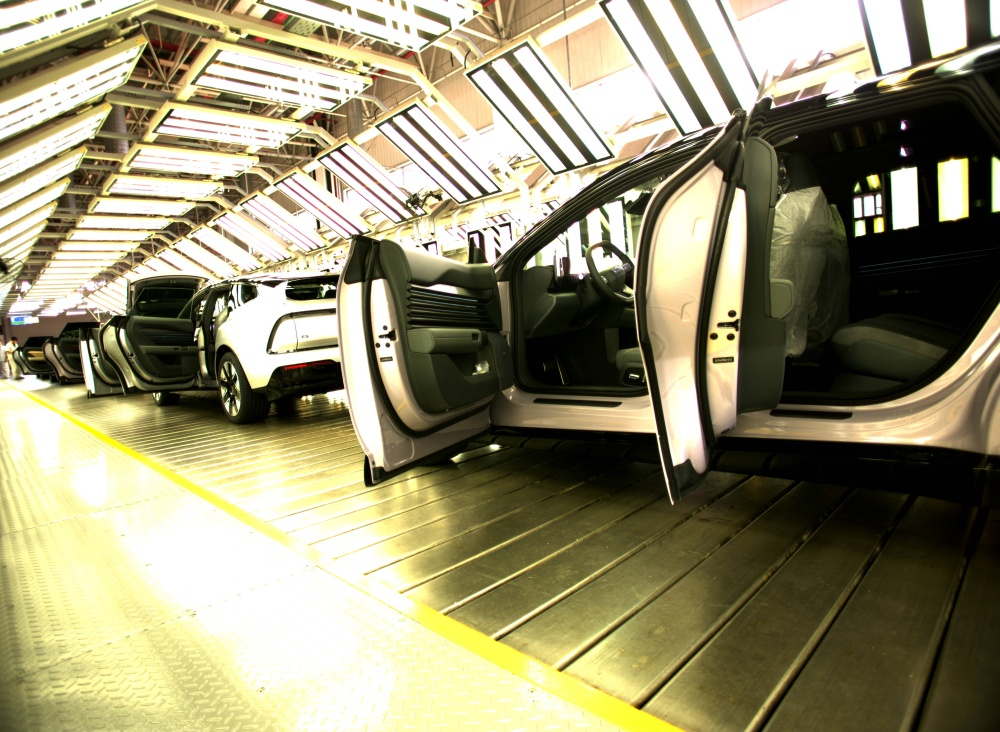armrest_color: (405, 326, 484, 354)
panel_color: (403, 279, 484, 329)
